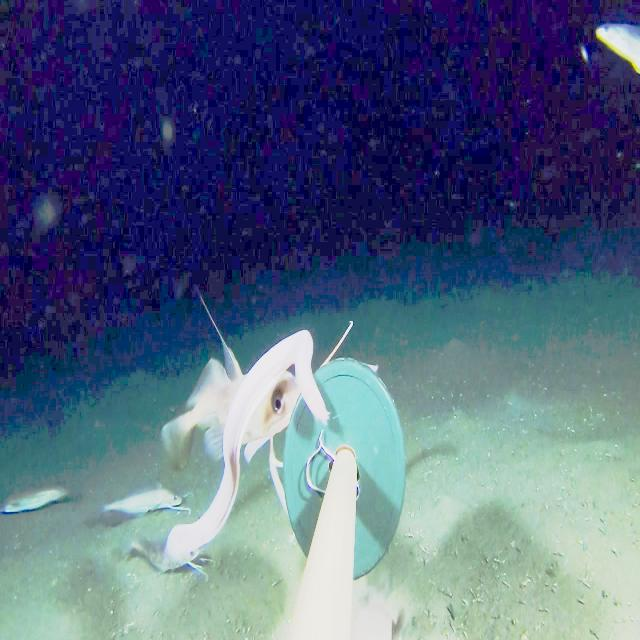eel: (157, 311, 339, 566)
fish: (154, 353, 298, 471), (581, 9, 640, 95), (120, 534, 210, 586), (1, 472, 87, 523), (99, 481, 192, 526), (317, 330, 383, 379), (346, 599, 411, 640)
pole: (283, 363, 409, 639)
